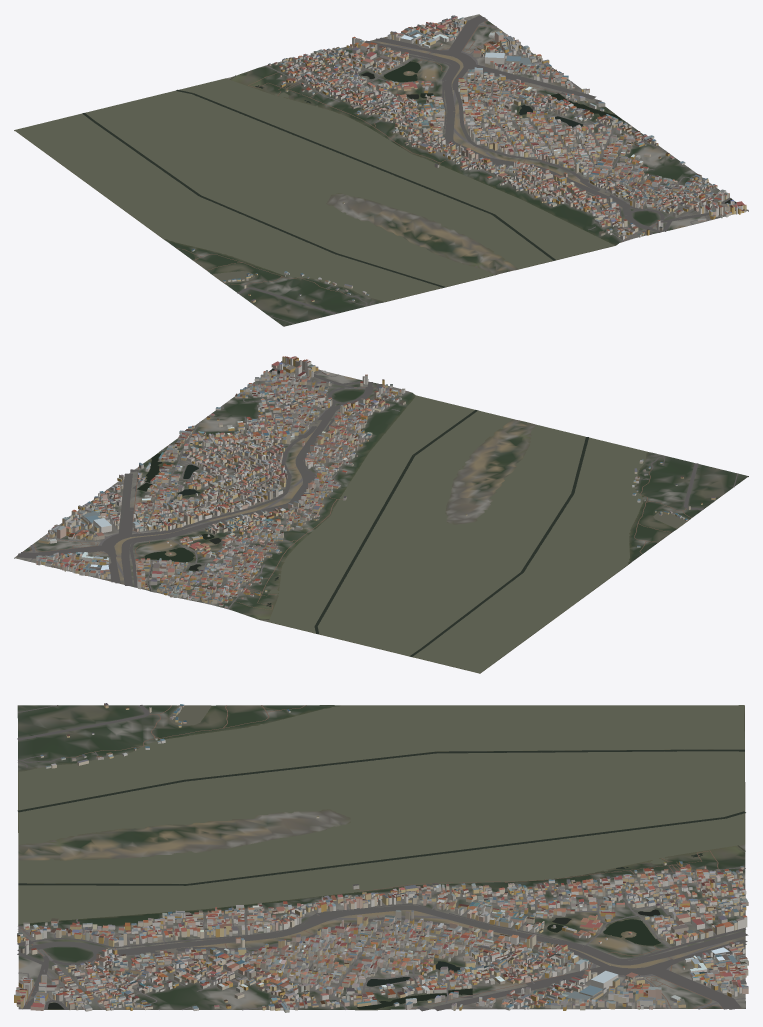
3 views of the same model, one above another, from view 1: azimuth 30°, elevation 25°; view 2: azimuth 150°, elevation 25°; view 3: azimuth 270°, elevation 25° (orthographic). The views are drawn at different scales.
Visible parts, largest first — view 1: water, buildings, ground, roads; view 2: water, buildings, ground, roads; view 3: water, buildings, ground, roads.
Boxes of the visible parts, x1=… form: water: x1=15, y1=47, x2=736, y2=301; buildings: x1=191, y1=15, x2=746, y2=302; ground: x1=14, y1=14, x2=748, y2=326; roads: x1=177, y1=15, x2=748, y2=323; water: x1=137, y1=369, x2=688, y2=672; buildings: x1=36, y1=356, x2=715, y2=608; ground: x1=14, y1=365, x2=748, y2=673; roads: x1=16, y1=361, x2=738, y2=609; water: x1=17, y1=705, x2=745, y2=1009; buildings: x1=14, y1=703, x2=748, y2=1012; ground: x1=17, y1=705, x2=745, y2=1010; roads: x1=17, y1=705, x2=748, y2=1011.
Size of the model in its own units: 1414 by 36.2 by 1417.
